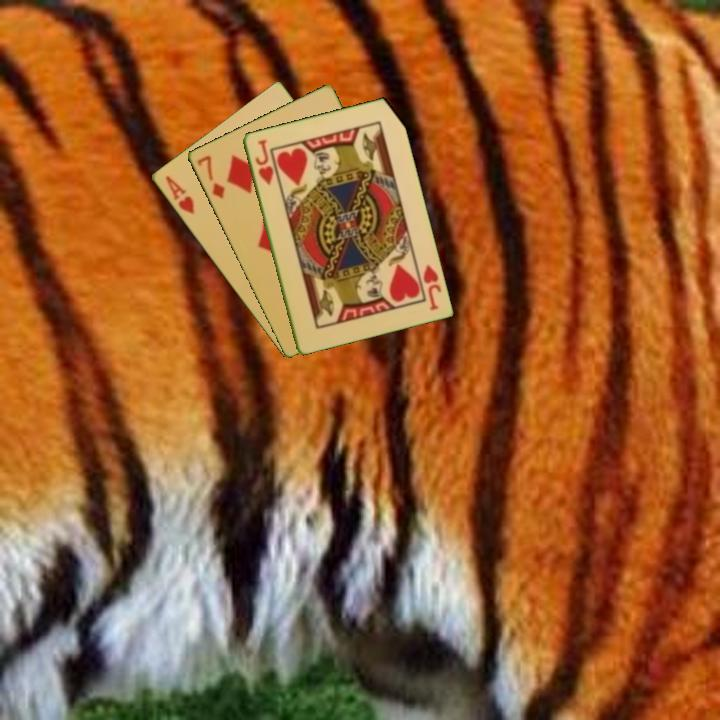7d: (193, 152, 227, 202)
Ah: (161, 172, 197, 217)
Jh: (413, 260, 444, 313), (251, 136, 276, 188)
